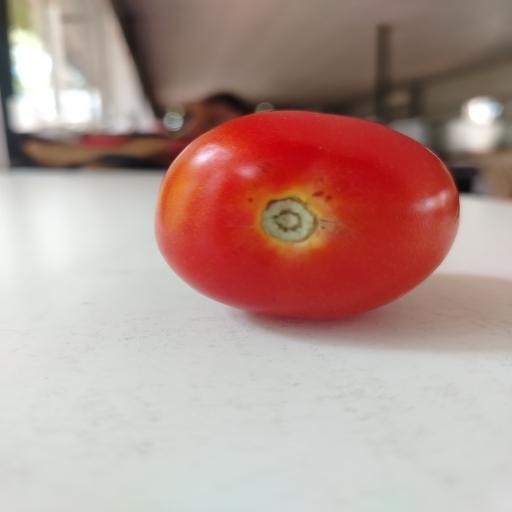ripe: (155, 111, 459, 318)
